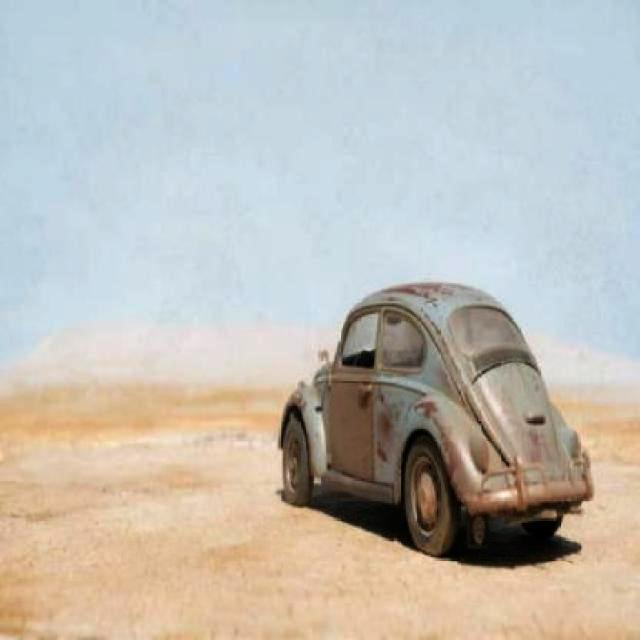car: (273, 287, 596, 562)
